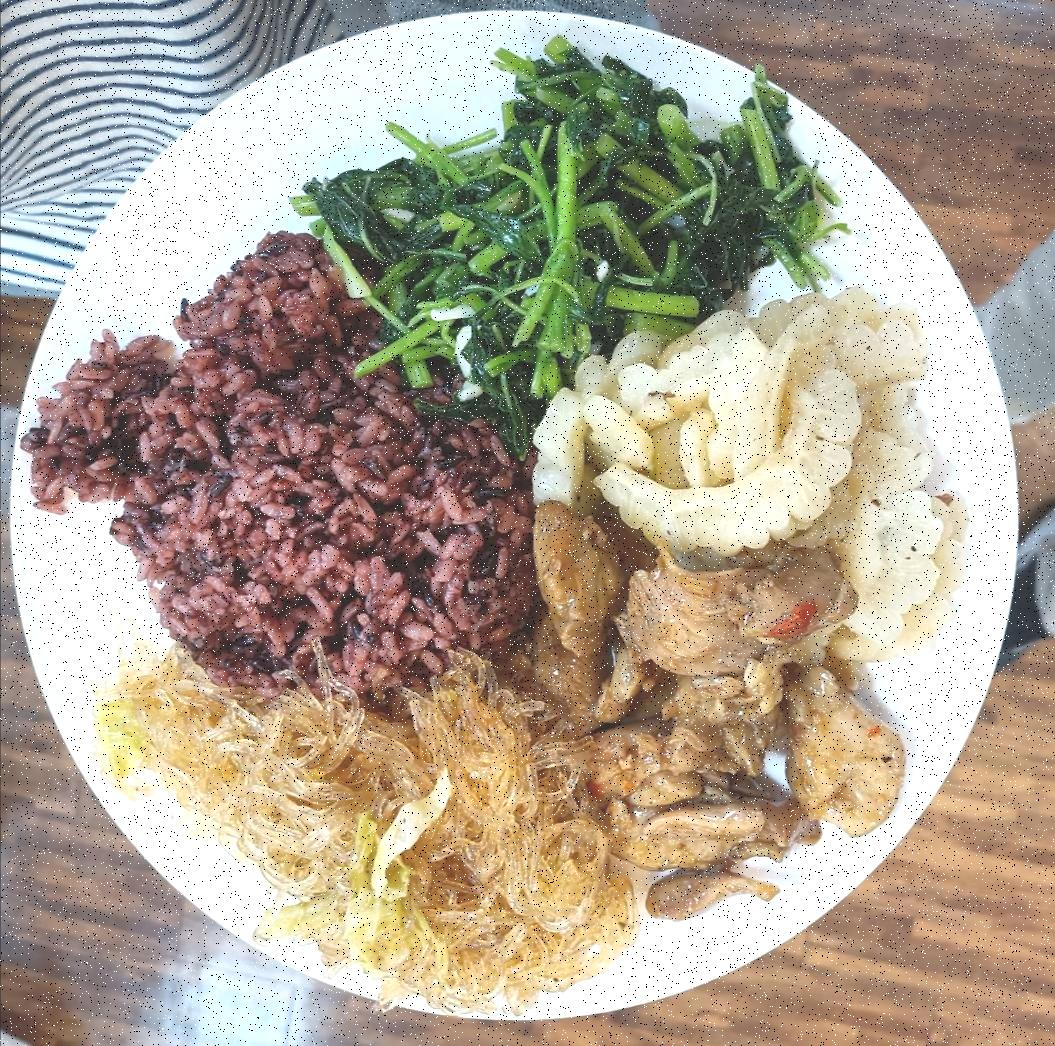big fried chicken leg: (8, 20, 1037, 1018)
braised fish: (32, 230, 523, 689)
braised fish fillet: (128, 680, 615, 986), (338, 50, 831, 325), (551, 306, 968, 550)
braised pork: (543, 544, 901, 922)
